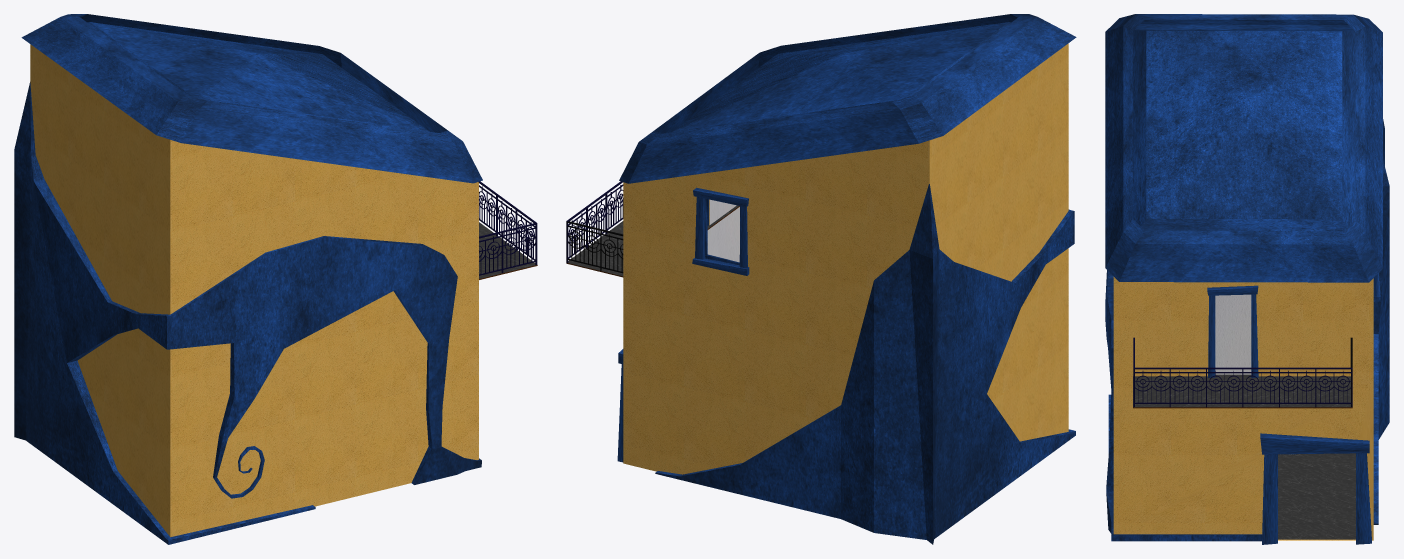
Rendered from Mura_Tetto_Pavimento_Casa.fbx.
The picture shows the model from 3 angles, left to right: view 1: azimuth 30°, elevation 25°; view 2: azimuth 150°, elevation 25°; view 3: azimuth 270°, elevation 25°; orthographic projection. The views are drawn at different scales.
Visible parts, largest first — view 1: Mura Casa, Tetto Casa; view 2: Mura Casa, Tetto Casa; view 3: Tetto Casa, Mura Casa, Pavimento Casa.
Part boxes in pixels (left/top/right/bottom): Mura Casa: left=14, top=44, right=537, bottom=544; Tetto Casa: left=21, top=14, right=482, bottom=183; Mura Casa: left=566, top=43, right=1075, bottom=544; Tetto Casa: left=619, top=14, right=1076, bottom=183; Tetto Casa: left=1105, top=14, right=1382, bottom=282; Mura Casa: left=1105, top=119, right=1389, bottom=544; Pavimento Casa: left=1278, top=453, right=1355, bottom=539.
Size of the model in its own units: 3212 by 3371 by 2193.
